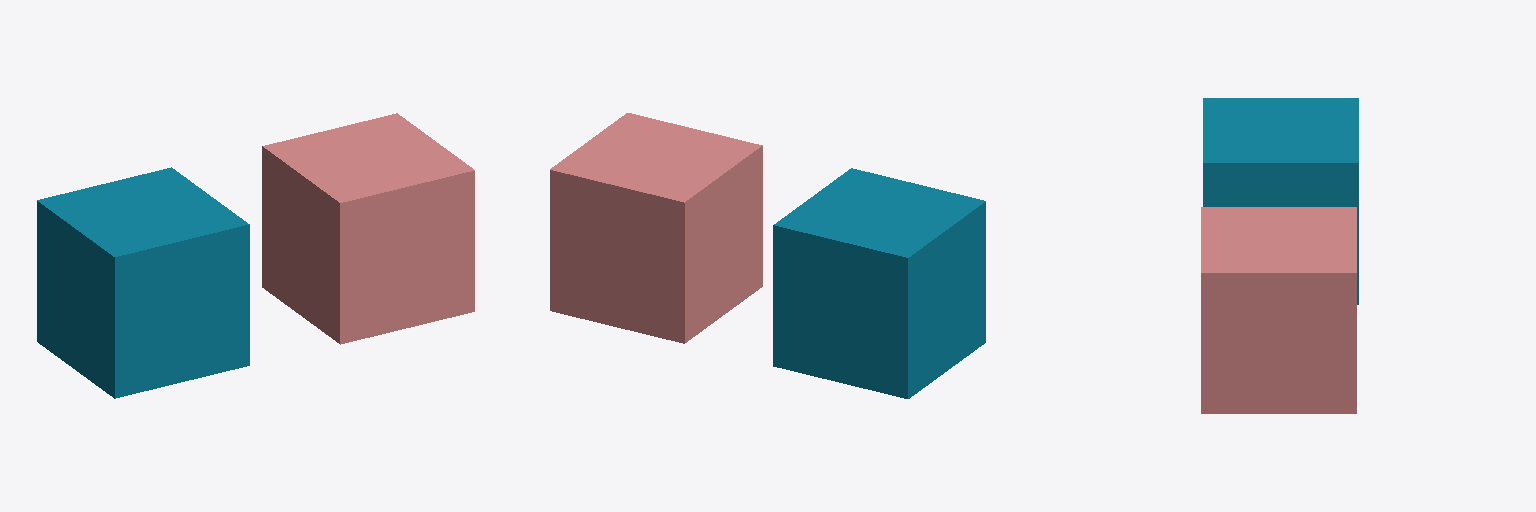
Rendered from twocube.obj.
3 views of the same model, side by side, from view 1: azimuth 30°, elevation 25°; view 2: azimuth 150°, elevation 25°; view 3: azimuth 270°, elevation 25° (orthographic).
Parts seen in each view (by area): view 1: Box02, Box01; view 2: Box02, Box01; view 3: Box01, Box02.
Boxes of the visible parts, x1,y1,x2,y2 form: Box02: [37, 167, 249, 398]; Box01: [262, 113, 474, 344]; Box02: [773, 168, 985, 398]; Box01: [550, 113, 762, 343]; Box01: [1201, 207, 1356, 413]; Box02: [1203, 98, 1358, 304].
Size of the model in its own units: 5.33 by 2 by 2.02.